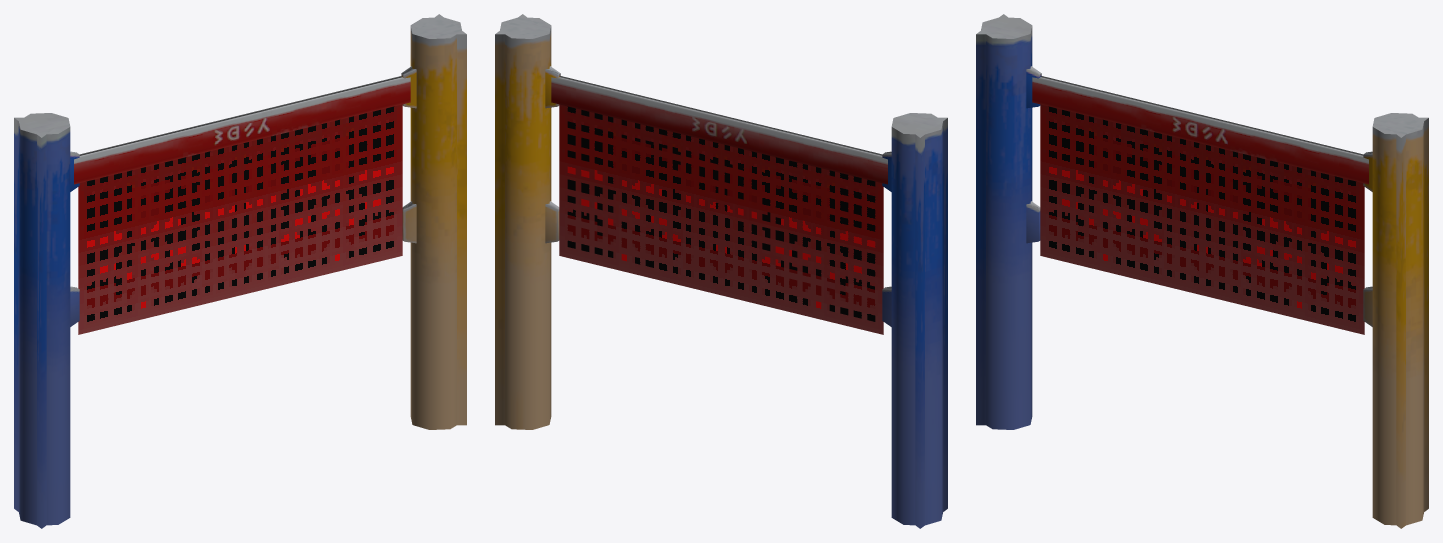
The model's file is objects_un_a_w17fence01.gltf.
The picture shows the model from 3 angles, left to right: view 1: azimuth 30°, elevation 25°; view 2: azimuth 150°, elevation 25°; view 3: azimuth 330°, elevation 25°; orthographic projection.
Parts seen in each view (by area): view 1: um_objects_un_a_w17fence01_model_lod0Shape:objects_un_a_w17c (×2), um_objects_un_a_w17fence01_model_lod2Shape:objects_un_a_w17c; view 2: um_objects_un_a_w17fence01_model_lod1Shape:objects_un_a_w17c, um_objects_un_a_w17fence01_model_lod0Shape:objects_un_a_w17c, um_objects_un_a_w17fence01_model_lod2Shape:objects_un_a_w17c (×2); view 3: um_objects_un_a_w17fence01_model_lod0Shape:objects_un_a_w17c (×2), um_objects_un_a_w17fence01_model_lod2Shape:objects_un_a_w17c.
Part boxes in pixels (box(x1,y1,x2,y2)): um_objects_un_a_w17fence01_model_lod0Shape:objects_un_a_w17c (×2): box(18, 17, 461, 525); um_objects_un_a_w17fence01_model_lod2Shape:objects_un_a_w17c: box(14, 14, 466, 528); um_objects_un_a_w17fence01_model_lod1Shape:objects_un_a_w17c: box(559, 104, 883, 334); um_objects_un_a_w17fence01_model_lod0Shape:objects_un_a_w17c: box(500, 17, 943, 525); um_objects_un_a_w17fence01_model_lod2Shape:objects_un_a_w17c (×2): box(495, 14, 947, 528); um_objects_un_a_w17fence01_model_lod0Shape:objects_un_a_w17c (×2): box(981, 17, 1424, 525); um_objects_un_a_w17fence01_model_lod2Shape:objects_un_a_w17c: box(976, 14, 1428, 528).
Bounding box in the file's own units: 4.3 × 3.65 × 0.4683.
Materials: 3 (2 with a texture image).
